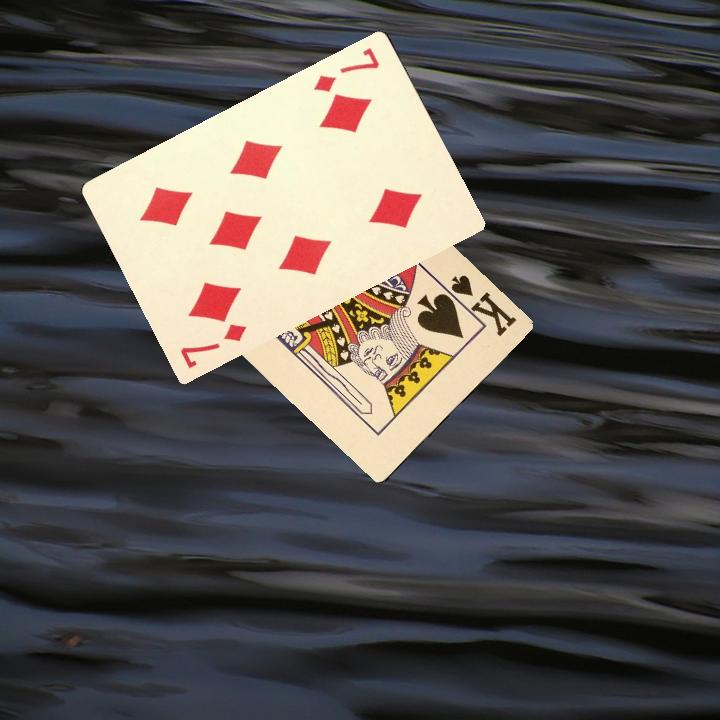7d: (176, 319, 249, 371), (310, 43, 382, 95)
Ks: (441, 270, 519, 339)
